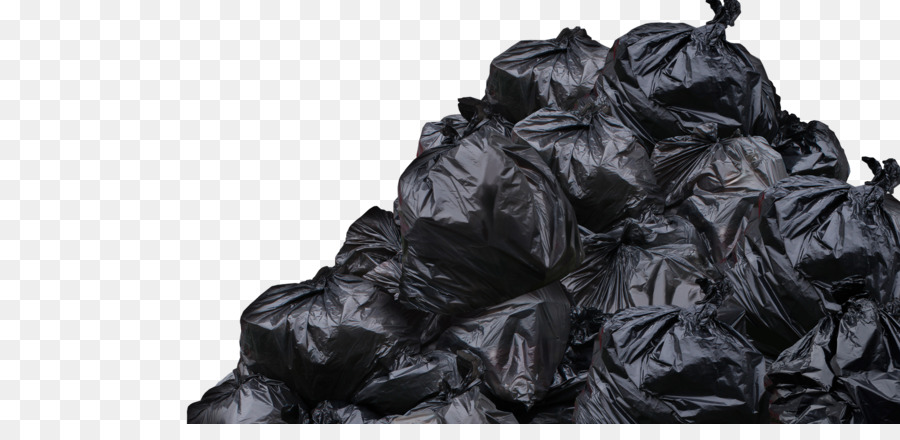plastic_bagwdw: (381, 45, 590, 286), (588, 1, 827, 156), (319, 116, 484, 335), (151, 313, 419, 440), (474, 4, 659, 179), (545, 195, 743, 341), (633, 112, 800, 280), (750, 245, 900, 427), (233, 232, 393, 398), (771, 133, 900, 338), (448, 257, 588, 414)
